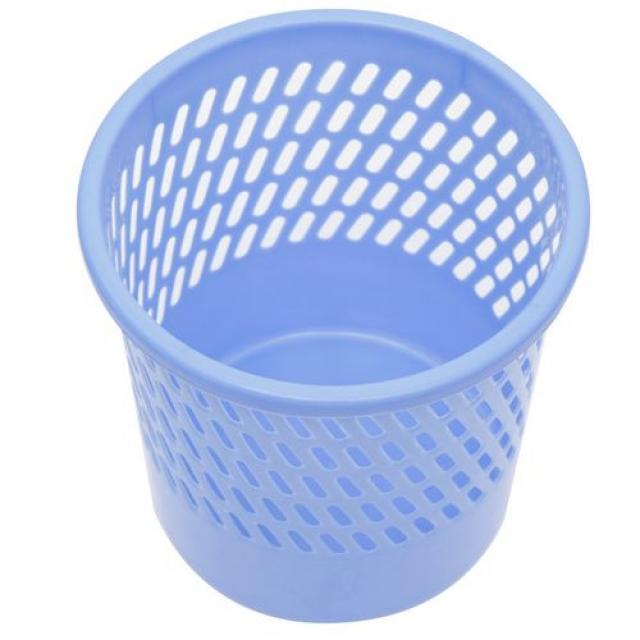Dustbin: (67, 2, 602, 632)
